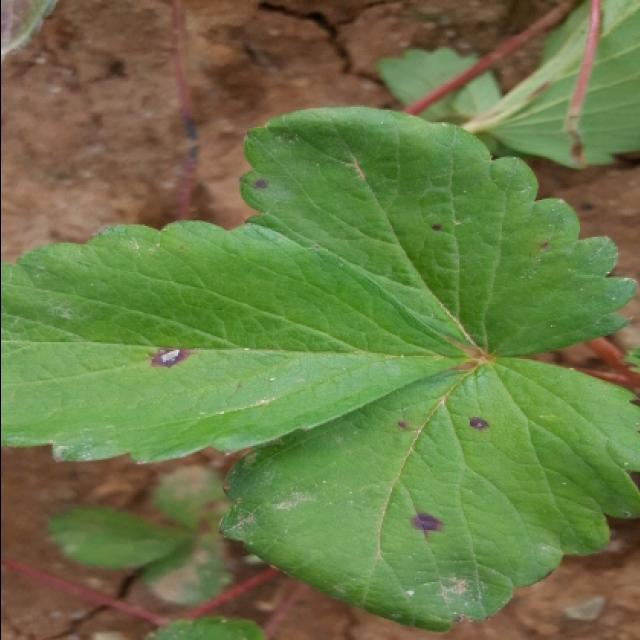Leaf Spot: (2, 219, 486, 466), (213, 357, 640, 634), (236, 105, 638, 360), (146, 466, 228, 541)
